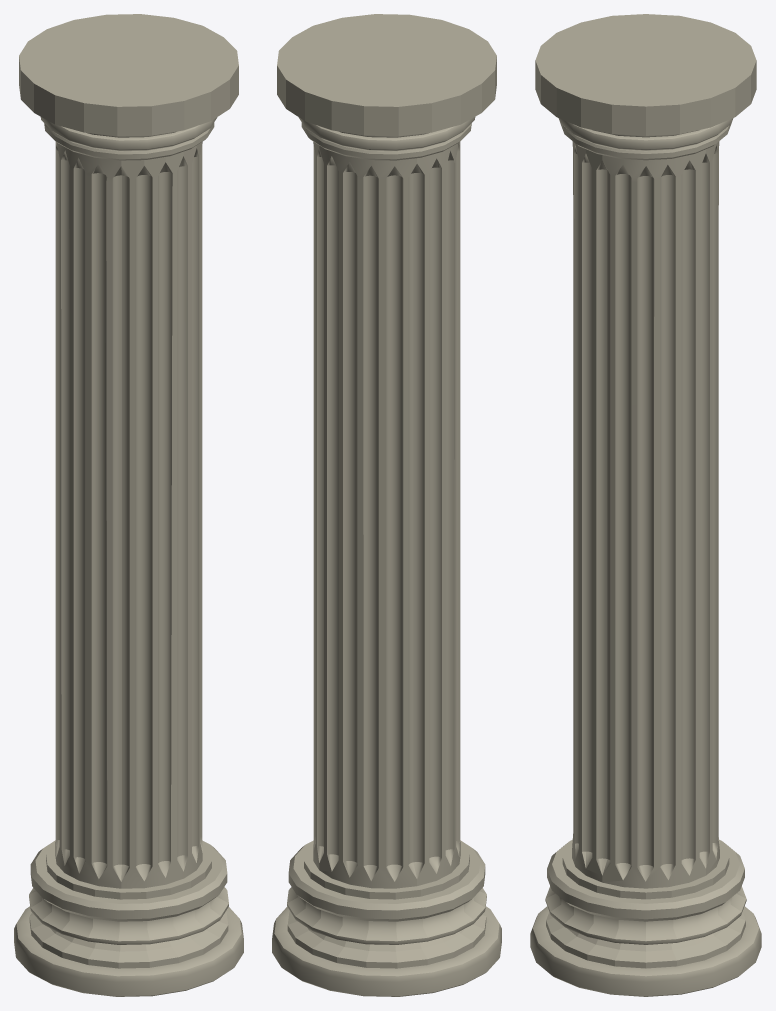
The model's file is pillar_v1.fbx.
3 views of the same model, side by side, from view 1: azimuth 30°, elevation 25°; view 2: azimuth 150°, elevation 25°; view 3: azimuth 270°, elevation 25° (orthographic).
Parts seen in each view (by area): view 1: pilar1_pCylinder18; view 2: pilar1_pCylinder18; view 3: pilar1_pCylinder18.
Boxes of the visible parts, box(x1,y1,x2,y2) form: pilar1_pCylinder18: box(14, 14, 243, 996); pilar1_pCylinder18: box(272, 14, 501, 996); pilar1_pCylinder18: box(530, 14, 761, 996).
Bounding box in the file's own units: 1.16 × 4.94 × 1.16.
